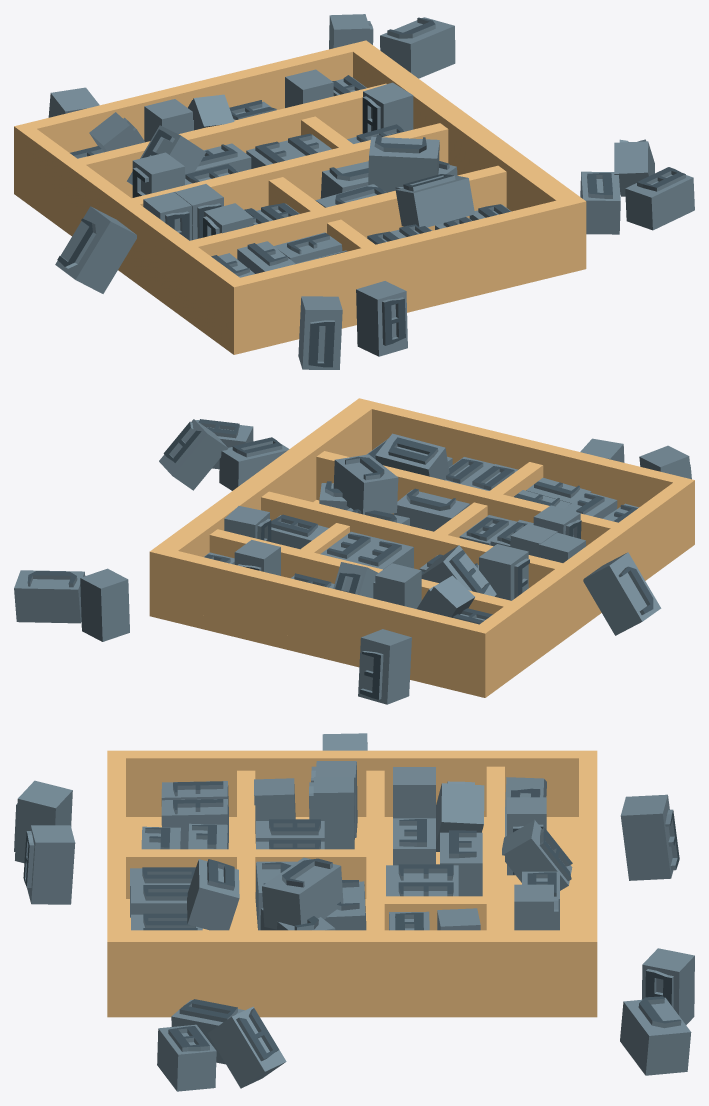
File: scene_korX3S11DQ.glb
3 renders of one model, top to bottom at view 1: azimuth 30°, elevation 25°; view 2: azimuth 150°, elevation 25°; view 3: azimuth 270°, elevation 25°, orthographic. The views are drawn at different scales.
Parts seen in each view (by area): view 1: Node; view 2: Node; view 3: Node.
Boxes of the visible parts, bbox=[...] form: Node: bbox=[14, 14, 694, 369]; Node: bbox=[14, 398, 694, 704]; Node: bbox=[14, 733, 694, 1091].
Bounding box in the file's own units: 1.37 × 0.2139 × 1.31.
